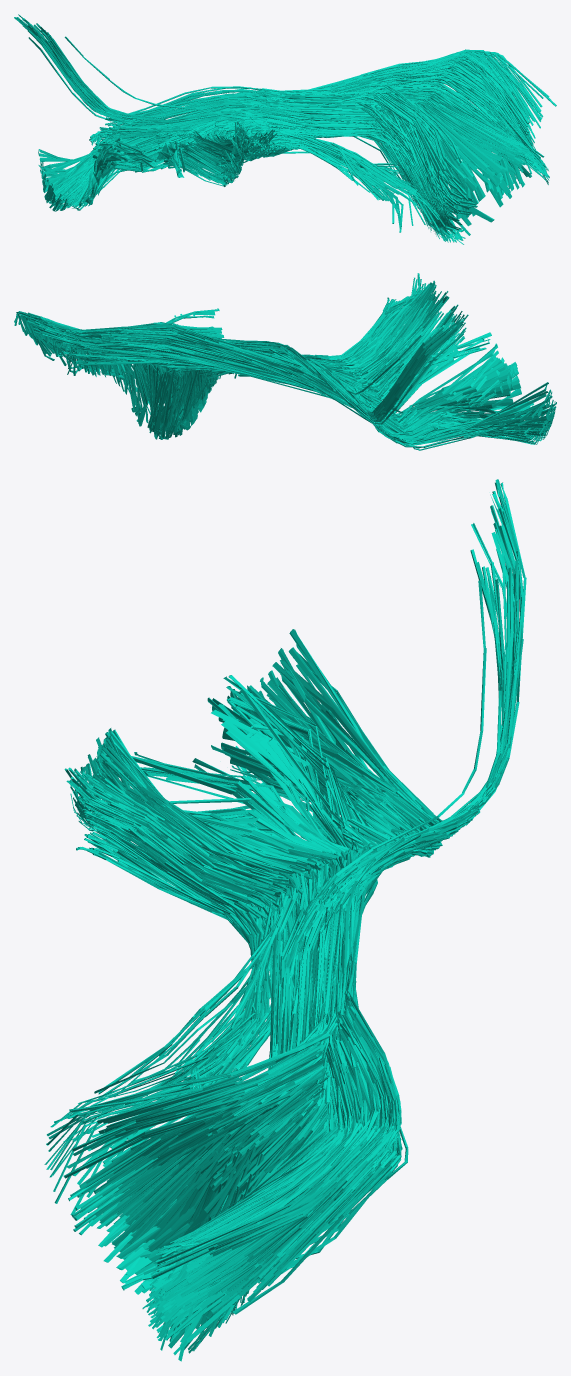
The model's file is SLF_III.glb.
3 views of the same model, one above another, from view 1: azimuth 30°, elevation 25°; view 2: azimuth 150°, elevation 25°; view 3: azimuth 270°, elevation 25° (orthographic). The views are drawn at different scales.
Visible parts, largest first — view 1: Tract_SLF3; view 2: Tract_SLF3; view 3: Tract_SLF3.
Part boxes in pixels (left/top/right/bottom): Tract_SLF3: left=14, top=14, right=556, bottom=244; Tract_SLF3: left=14, top=273, right=556, bottom=450; Tract_SLF3: left=44, top=479, right=526, bottom=1361.
Size of the model in its own units: 71.48 by 34.7 by 29.14.
